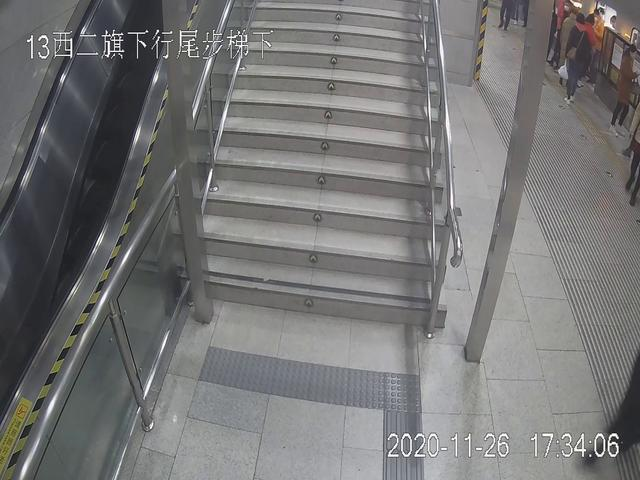person: (613, 41, 640, 127), (563, 13, 587, 105)
